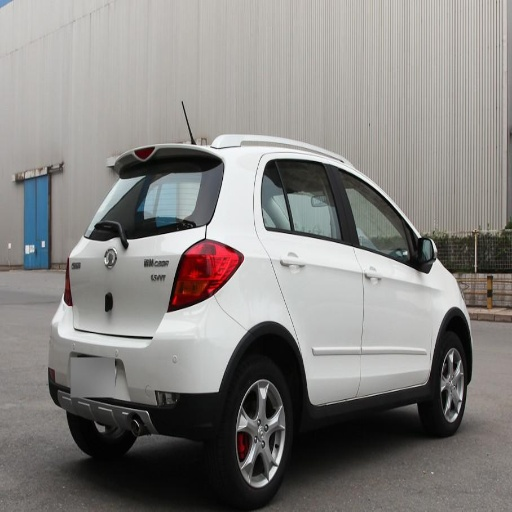back_bumper: (47, 295, 245, 440)
back_right_door: (259, 156, 362, 401)
tailgate: (97, 259, 172, 336)
trunk: (65, 232, 200, 338)
